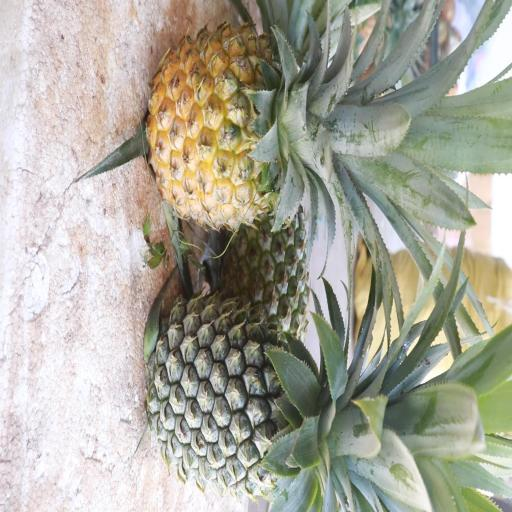Pineapple - v8 v1: (139, 9, 433, 240)
